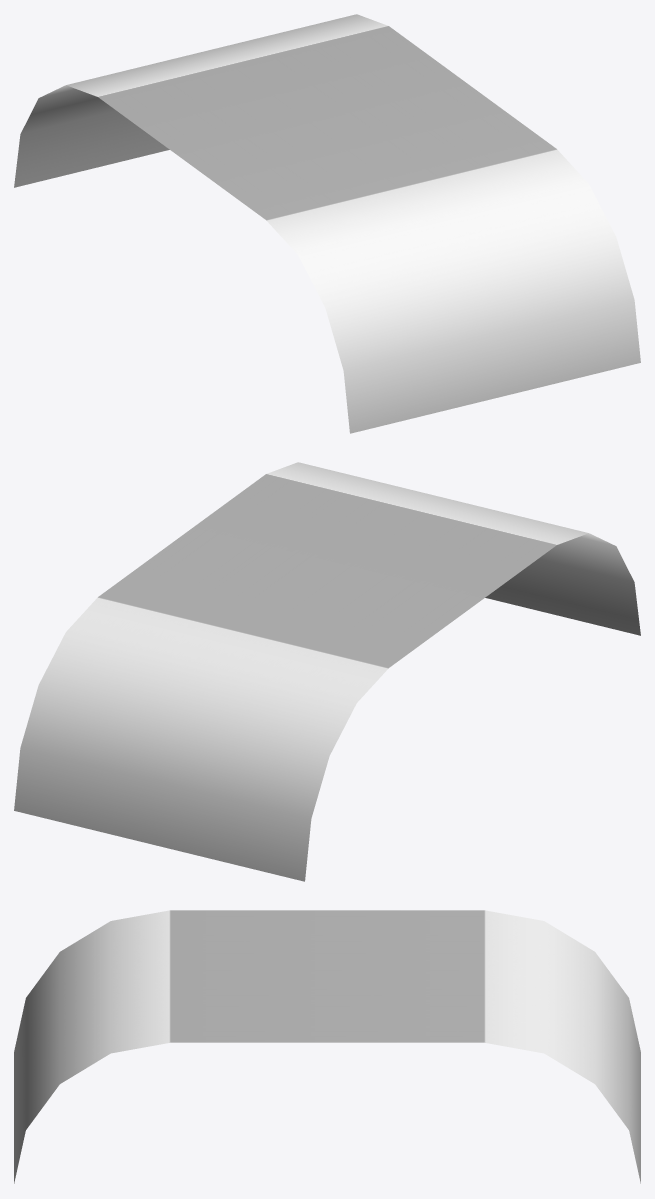
Rendered from PL_File_Top.fbx.
3 views of the same model, one above another, from view 1: azimuth 30°, elevation 25°; view 2: azimuth 150°, elevation 25°; view 3: azimuth 270°, elevation 25° (orthographic). The views are drawn at different scales.
Visible parts, largest first — view 1: PL_File_Top; view 2: PL_File_Top; view 3: PL_File_Top.
Boxes of the visible parts, box(x1,y1,x2,y2) form: PL_File_Top: box(14, 14, 640, 433); PL_File_Top: box(14, 462, 640, 881); PL_File_Top: box(14, 910, 640, 1183).
Size of the model in its own units: 64.01 by 32 by 128.
1 material, 1 textured.
